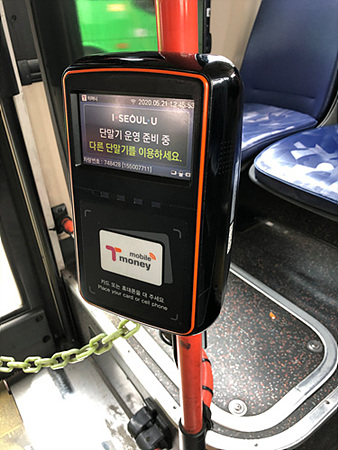terminal: (68, 52, 231, 331)
